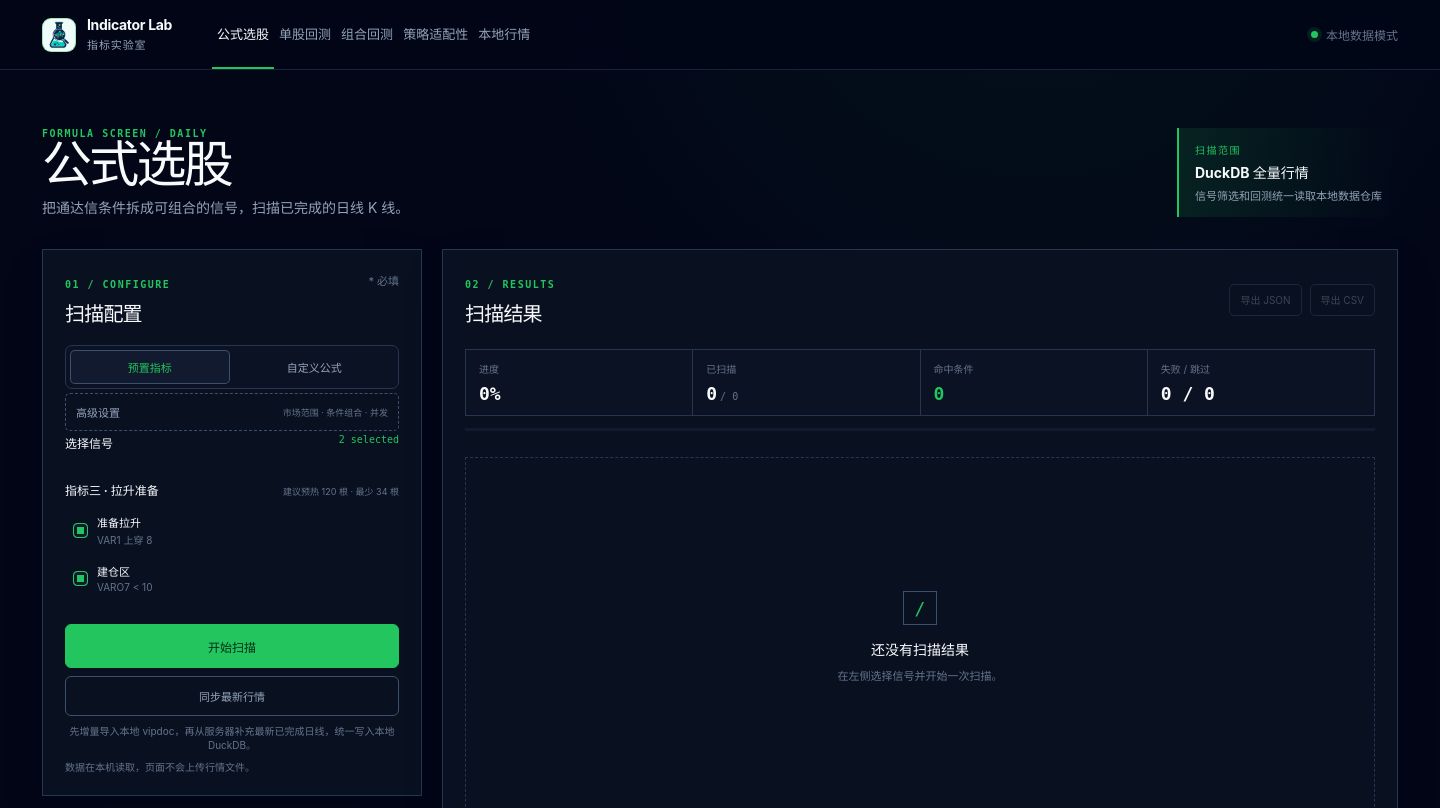
Test: FormulaScreenPage › keeps advanced settings collapsed until requested
Click the button with test id "advanced-toggle" at [98, 413], box [65,393,399,431]
(page scrolled)
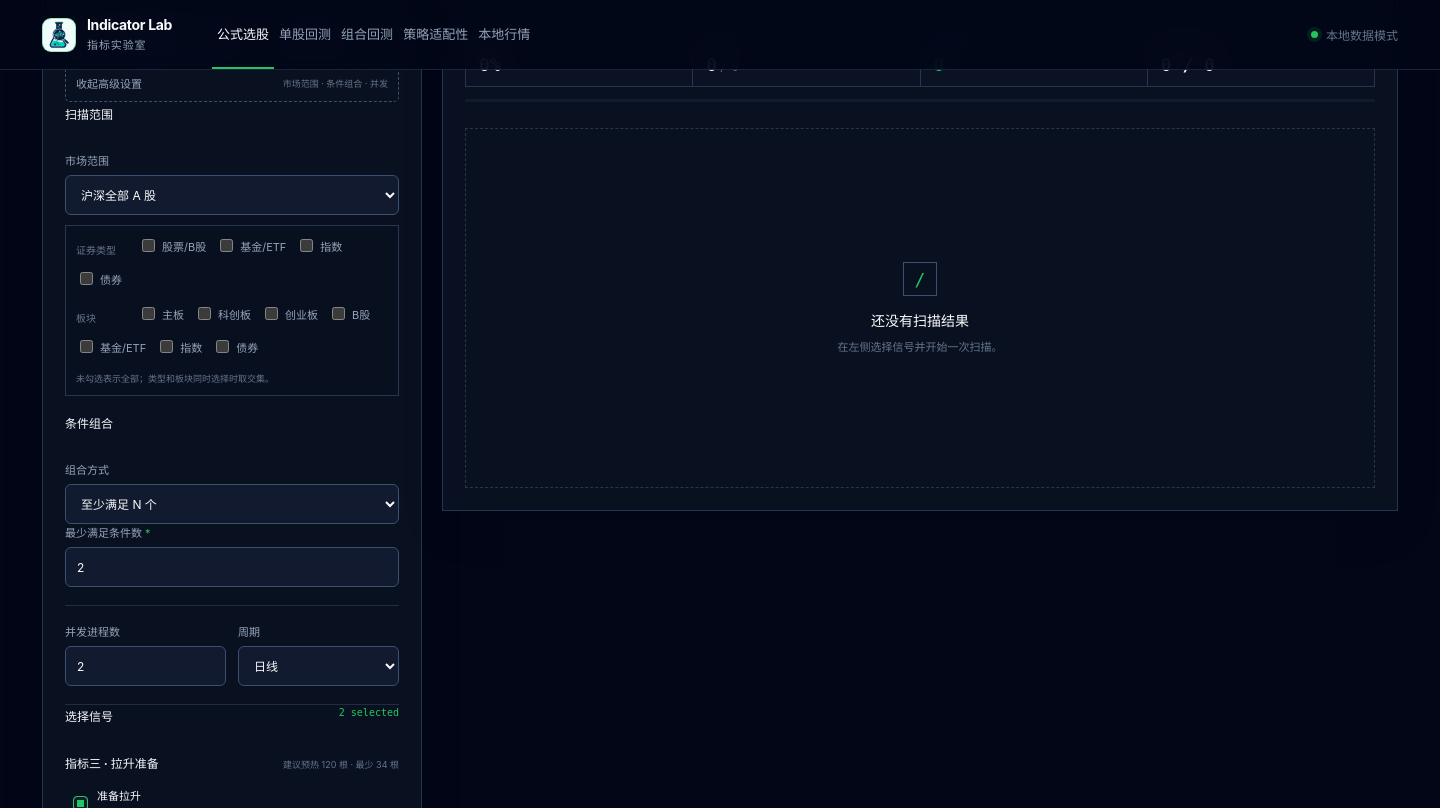
Check: the element with test id "advanced-settings" shows "市场范围", box [65,154,109,168]
